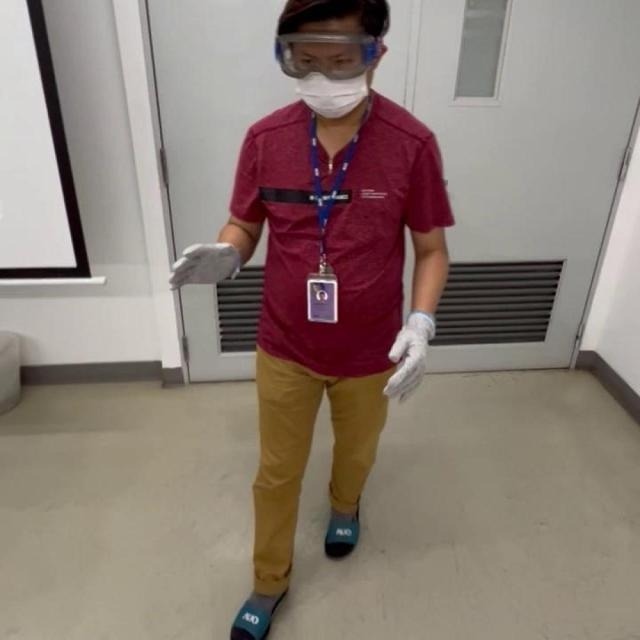gloved_hand: (383, 306, 435, 404), (172, 240, 243, 289)
